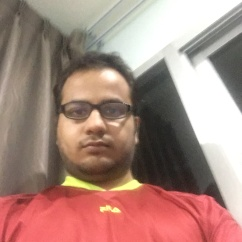glasses: (55, 102, 132, 119)
